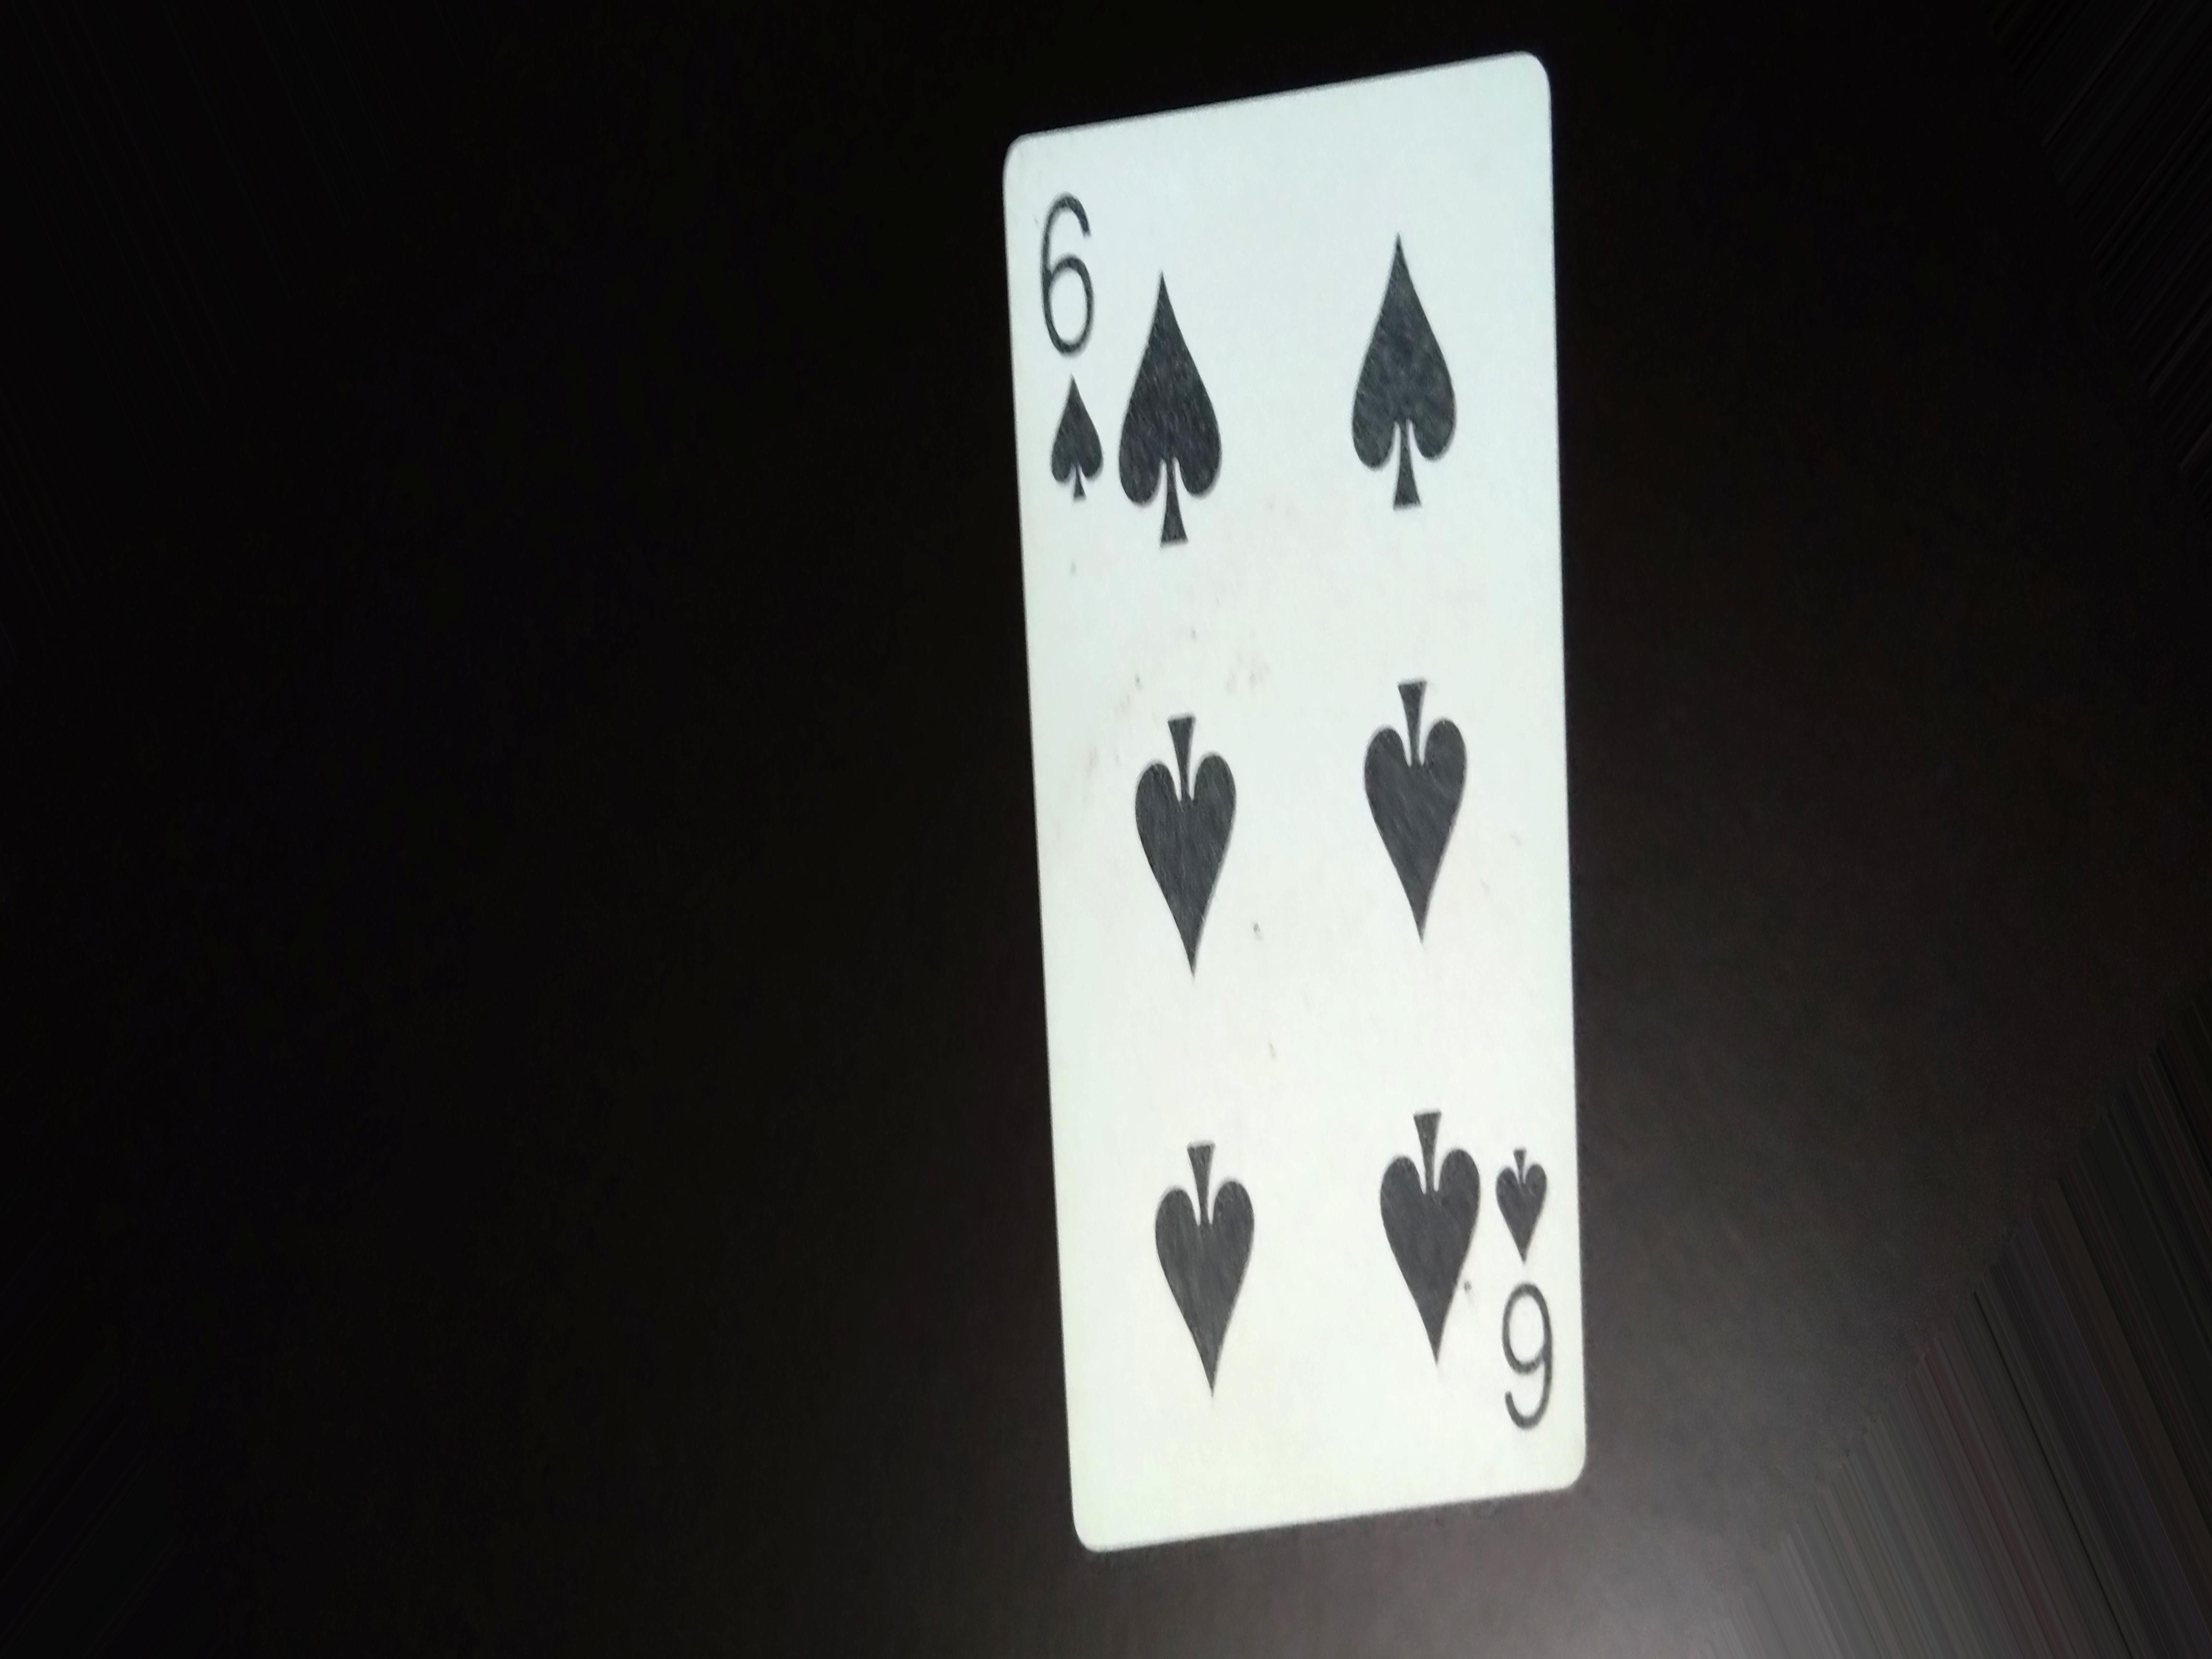6S: (1491, 1121, 1575, 1434)
